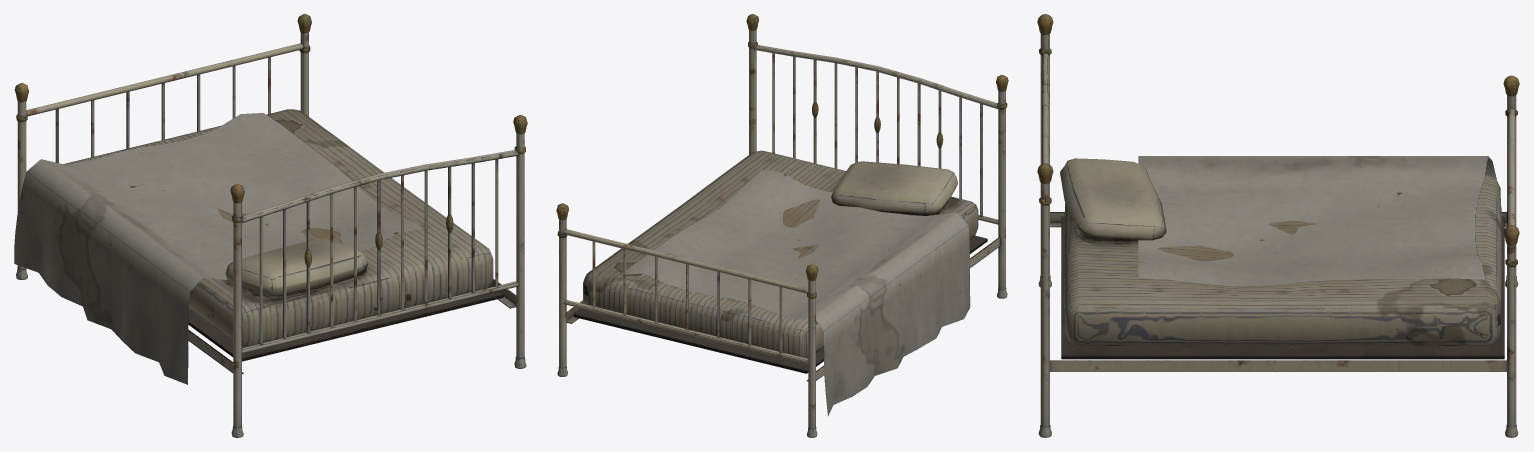
The model's file is furniture_bed.glb.
The picture shows the model from 3 angles, left to right: view 1: azimuth 30°, elevation 25°; view 2: azimuth 150°, elevation 25°; view 3: azimuth 270°, elevation 25°; orthographic projection. The views are drawn at different scales.
Visible parts, largest first — view 1: furniture_bed; view 2: furniture_bed; view 3: furniture_bed.
Boxes of the visible parts, x1,y1,x2,y2 form: furniture_bed: [14, 14, 527, 437]; furniture_bed: [556, 14, 1008, 437]; furniture_bed: [1037, 14, 1519, 437].
Bounding box in the file's own units: 1.68 × 1.32 × 2.13.
Materials: 1 (1 with a texture image).
